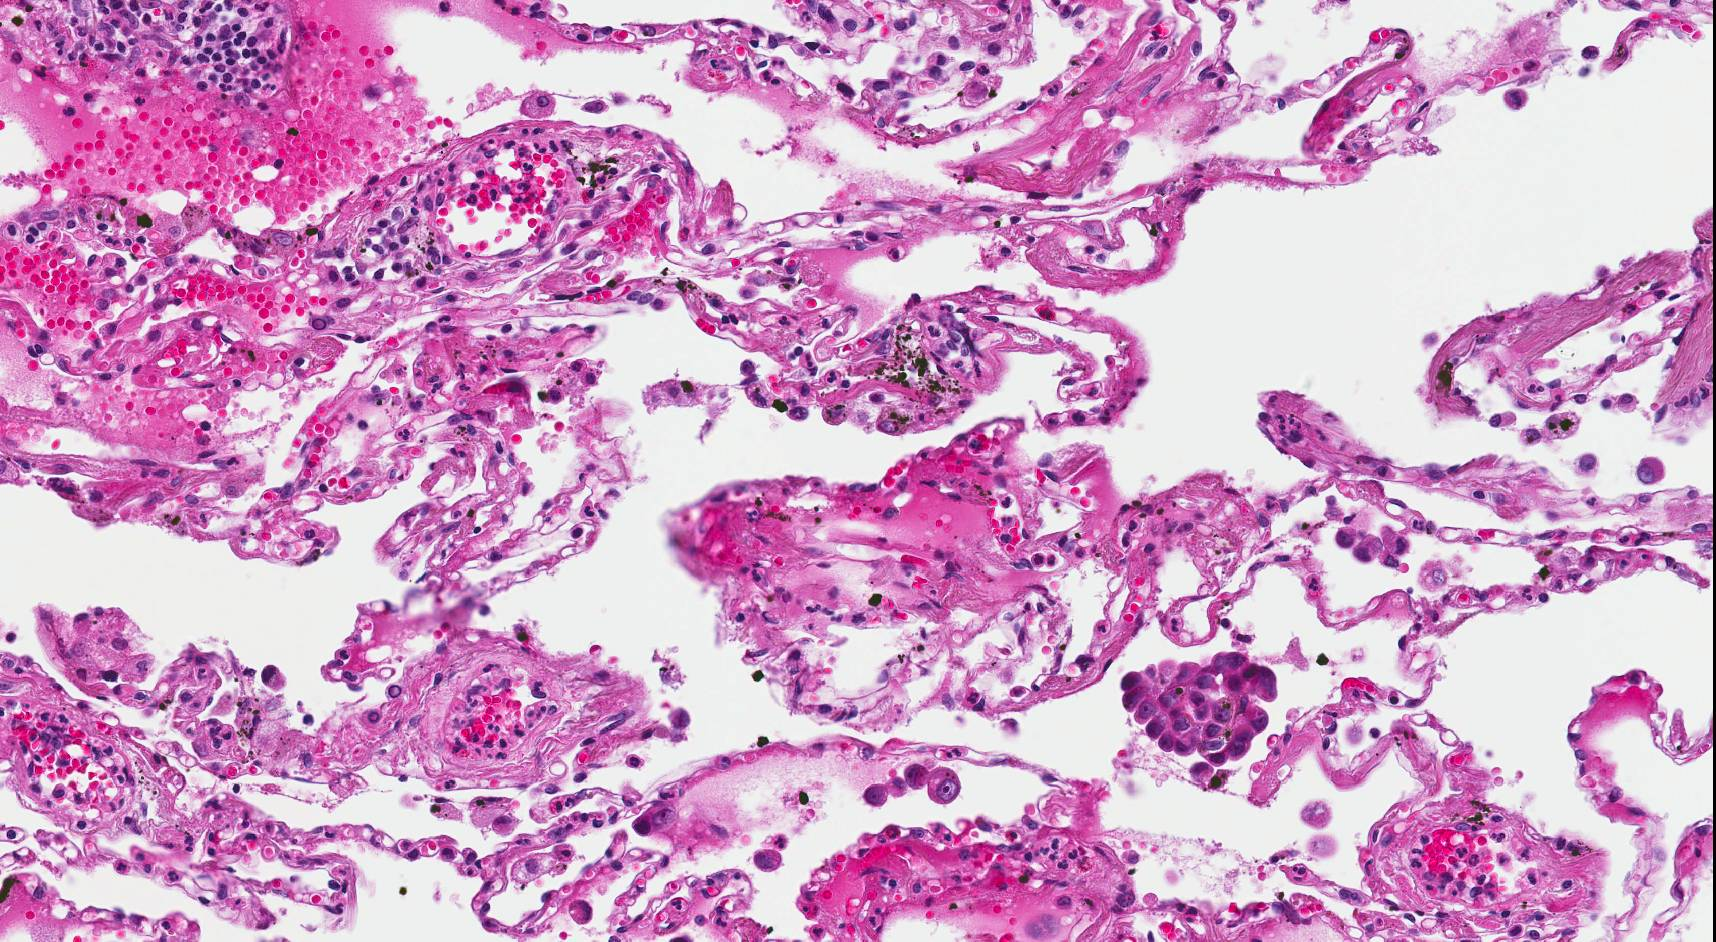stas: (1122, 649, 1279, 765), (1335, 521, 1412, 569), (927, 765, 960, 803)
